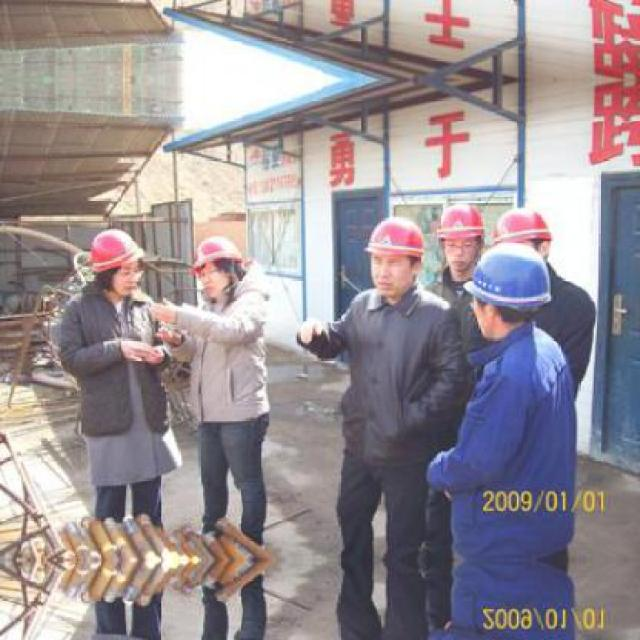helmet: (463, 243, 552, 334), (366, 217, 428, 300), (492, 207, 554, 276), (84, 226, 141, 294), (436, 202, 484, 278), (190, 238, 244, 300)
